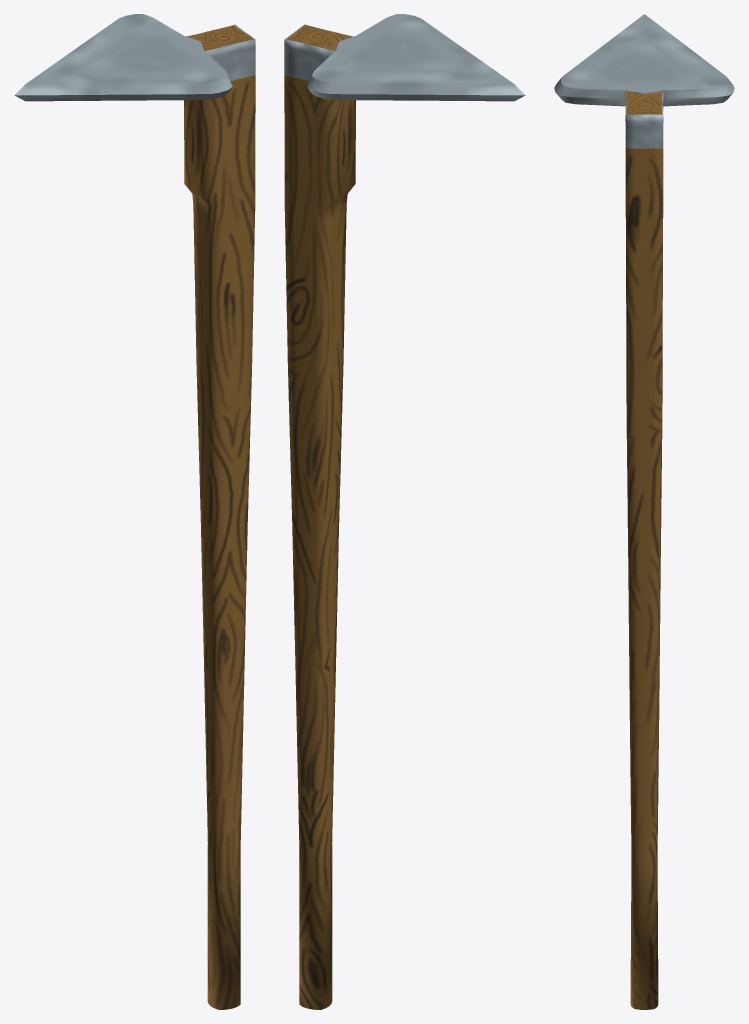
Rendered from hoeV1.fbx.
3 renders of one model, left to right at view 1: azimuth 30°, elevation 25°; view 2: azimuth 150°, elevation 25°; view 3: azimuth 270°, elevation 25°, orthographic. The views are drawn at different scales.
Parts seen in each view (by area): view 1: hoeV1; view 2: hoeV1; view 3: hoeV1.
Part boxes in pixels (x1,y1,x2,y2): hoeV1: (14,14,255,1009); hoeV1: (284,14,525,1009); hoeV1: (554,14,734,1009).
Bounding box in the file's own units: 0.3079 × 1.23 × 0.2239.
2 materials, 2 textured.
